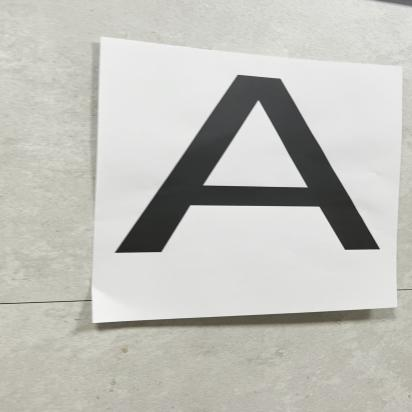seat: (106, 45, 408, 284)
